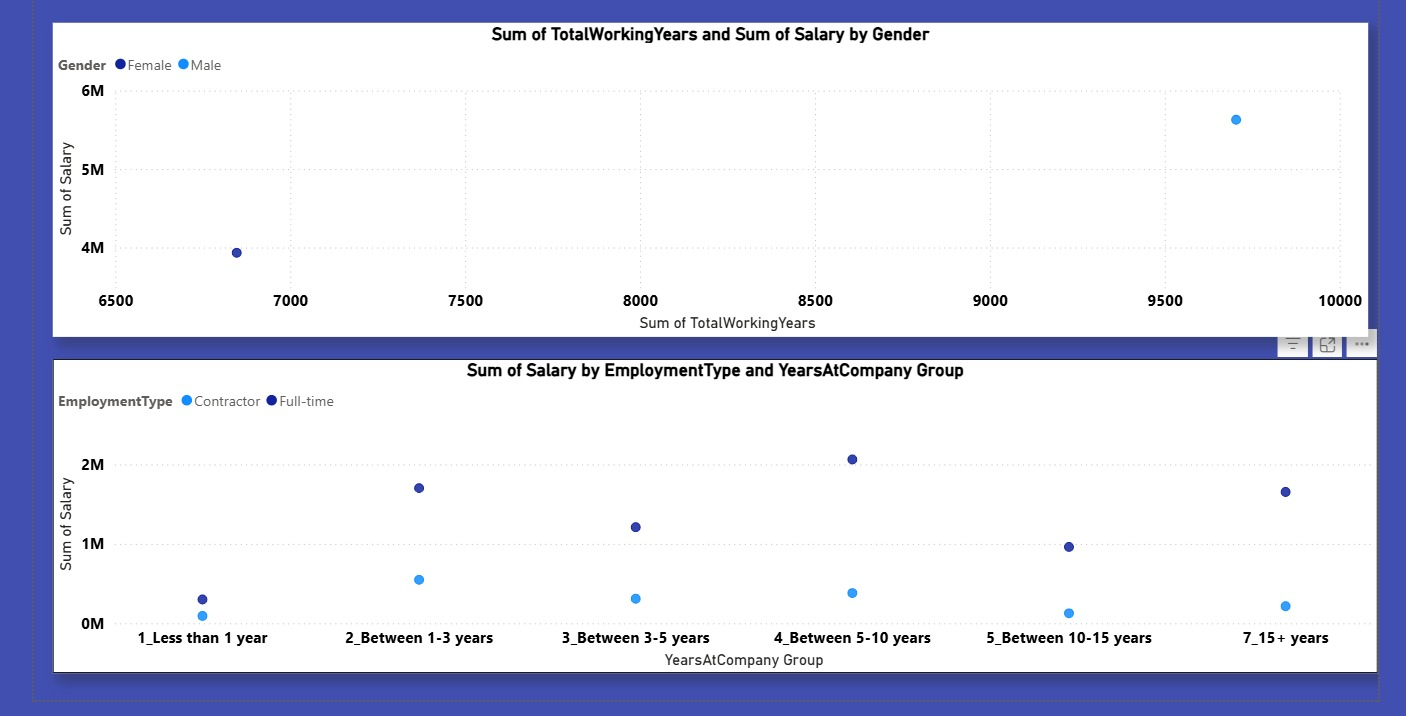

Layout of this report page (visuals, bound fields, positions):
{"tool":"powerbi","page":{"name":"Page 3","canvas":[1280,720],"ordinal":2},"visuals":[{"type":"scatterChart","fields":{"X":["Dataset.YearsAtCompany Group"],"Y":["Sum(Dataset.Salary)"],"Series":["Dataset.EmploymentType"]},"box":[17.8,395.2,1262.3,299.4],"z":0},{"type":"scatterChart","fields":{"X":["Sum(Dataset.TotalWorkingYears)"],"Y":["Sum(Dataset.Salary)"],"Series":["Dataset.Gender"]},"box":[17.8,75.5,1252.8,299.1],"z":1000}]}

Visuals, with their boxes on the page's 1280x720 design canvas (x1, y1, x2, y2). These are canvas units, not pixel positions in the 1406x716 screenshot, which may show the page scaled, cropped or inside an application window:
scatterChart - Dataset.YearsAtCompany Group x Sum(Dataset.Salary): [18, 395, 1280, 695]
scatterChart - Sum(Dataset.TotalWorkingYears) x Sum(Dataset.Salary): [18, 76, 1271, 375]
